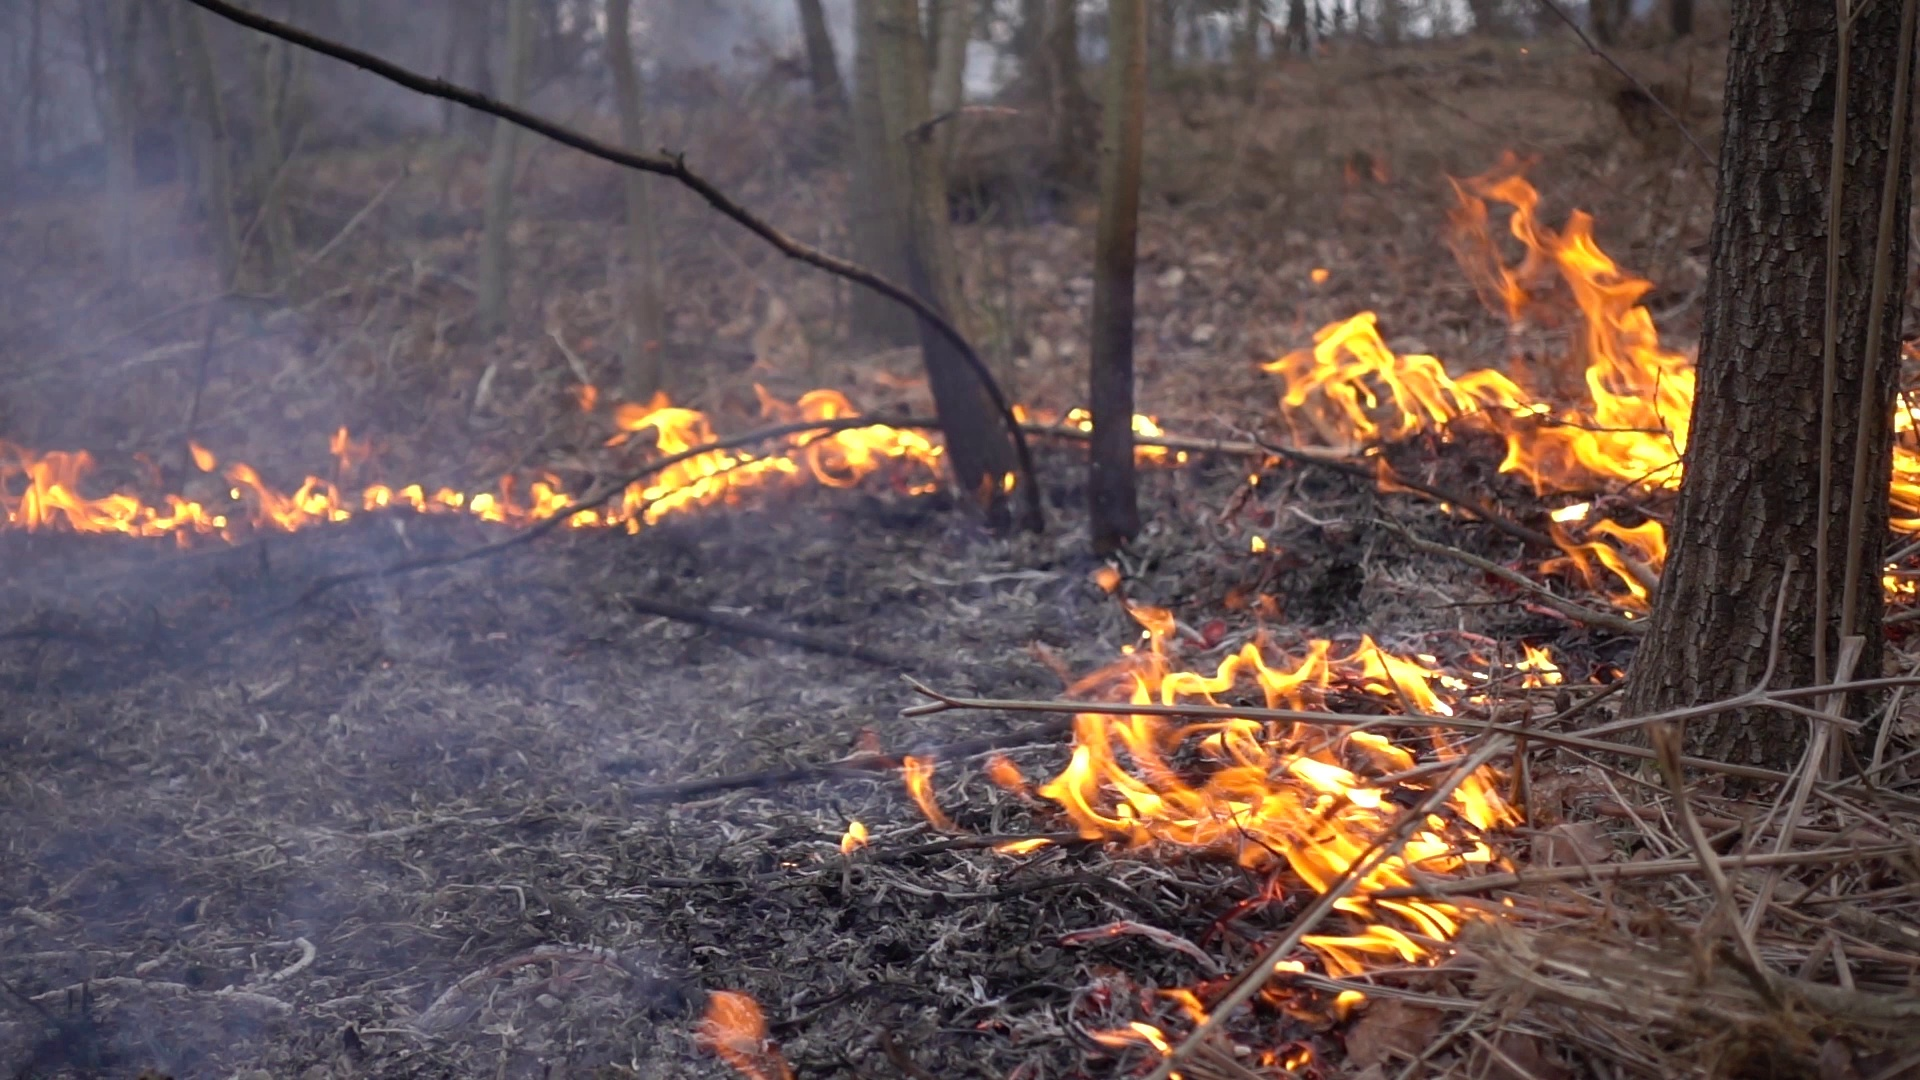fire: (1054, 597, 1538, 981), (1273, 185, 1691, 571), (613, 393, 934, 518), (4, 442, 338, 538), (360, 468, 568, 531), (1890, 402, 1920, 527)
